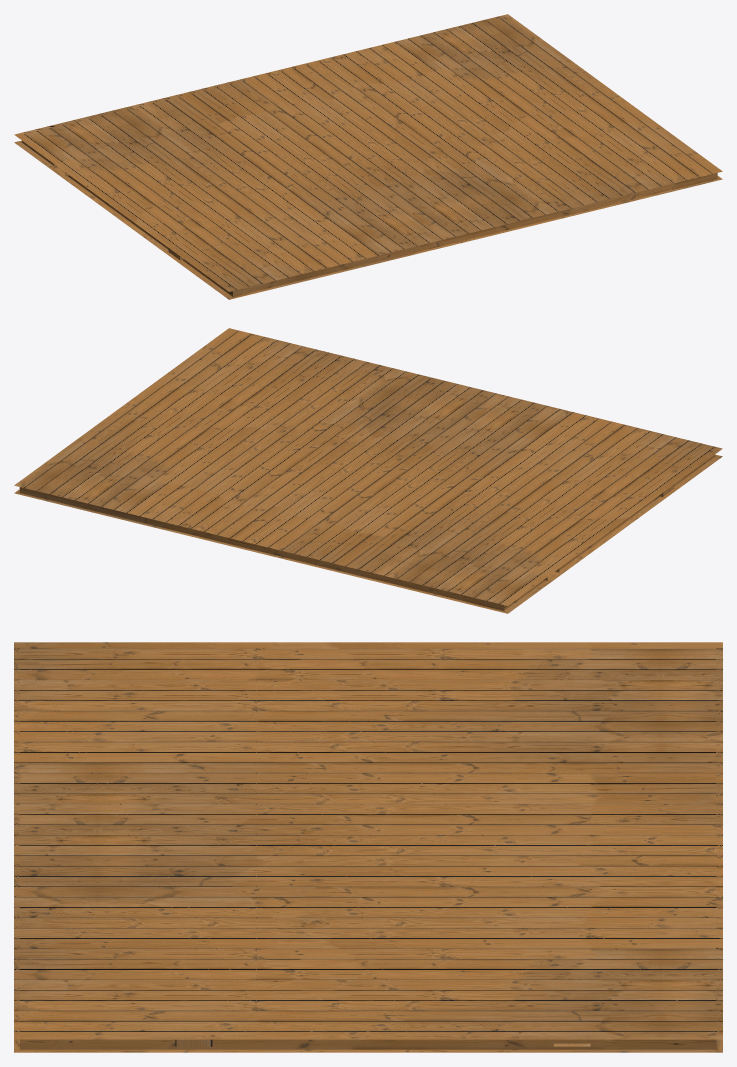
File: cieling.fbx
The picture shows the model from 3 angles, top to bottom: view 1: azimuth 30°, elevation 25°; view 2: azimuth 150°, elevation 25°; view 3: azimuth 270°, elevation 25°; orthographic projection. The views are drawn at different scales.
Parts seen in each view (by area): view 1: cieling; view 2: cieling; view 3: cieling.
Part boxes in pixels (x1,y1,x2,y2): cieling: [14, 14, 722, 299]; cieling: [14, 328, 722, 613]; cieling: [14, 642, 722, 1052].
Bounding box in the file's own units: 722 × 10.88 × 545.
